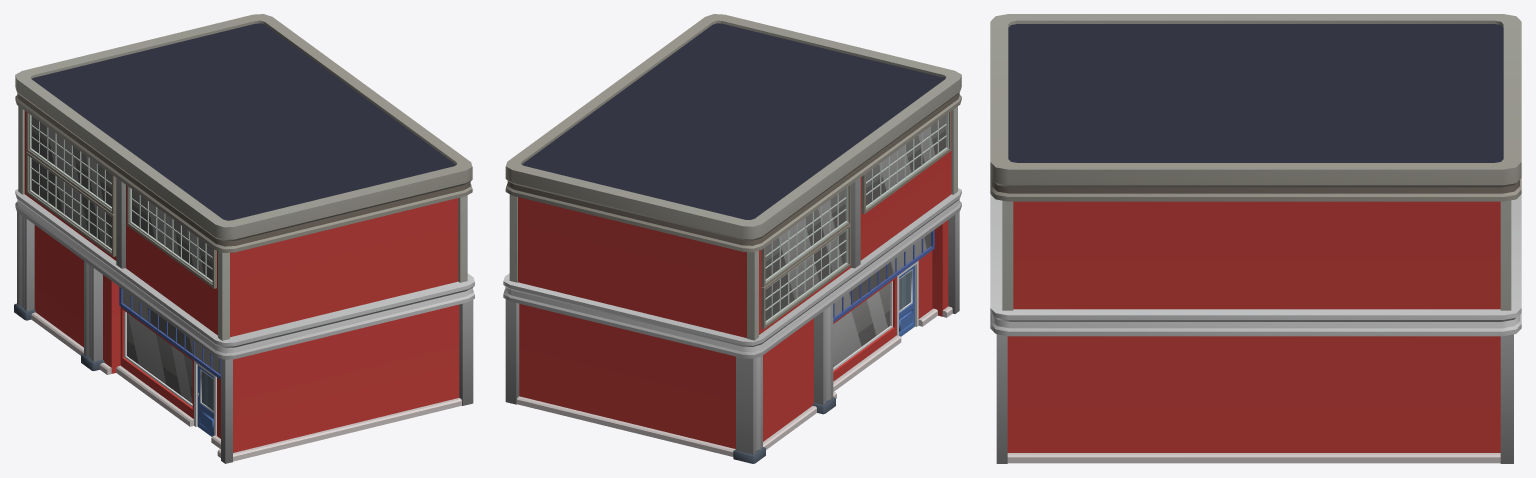
Rendered from Building_11_3_E.glb.
3 views of the same model, side by side, from view 1: azimuth 30°, elevation 25°; view 2: azimuth 150°, elevation 25°; view 3: azimuth 270°, elevation 25° (orthographic). The views are drawn at different scales.
Parts seen in each view (by area): view 1: Building_11_3_E; view 2: Building_11_3_E; view 3: Building_11_3_E.
Boxes of the visible parts, x1,y1,x2,y2 form: Building_11_3_E: [14, 14, 474, 463]; Building_11_3_E: [503, 14, 961, 463]; Building_11_3_E: [990, 14, 1521, 463].
Size of the model in its own units: 8.14 by 7.15 by 11.63.
Materials: 3 (3 with a texture image).
